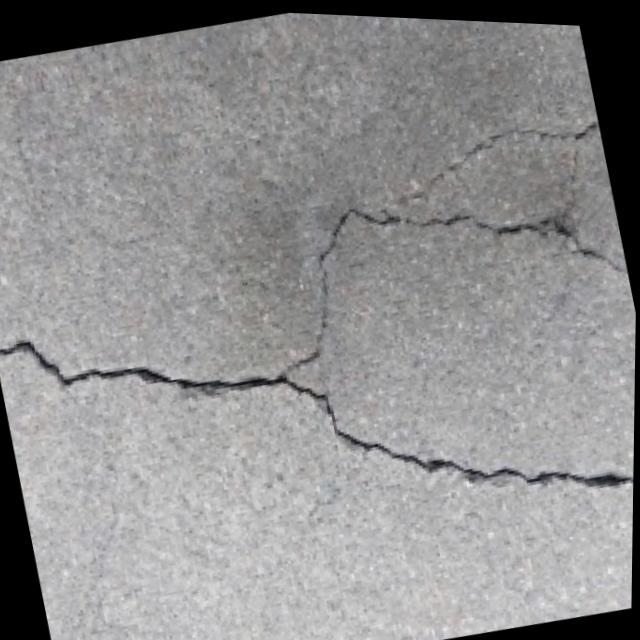Crack: (0, 167, 638, 637), (209, 49, 640, 413)
